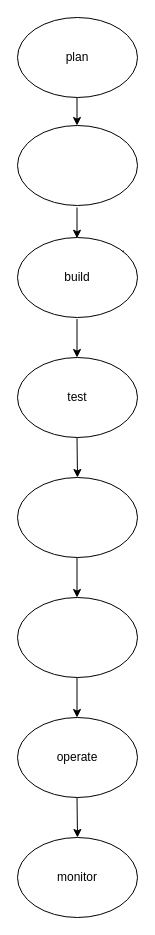
This 155x935 diagram has some shape labels left out. Here are the shapes that lost their labels. From the top down, the centre of each, then its label:
At point 77,165: "develop".
At point 77,517: "release".
At point 77,637: "depoly".
